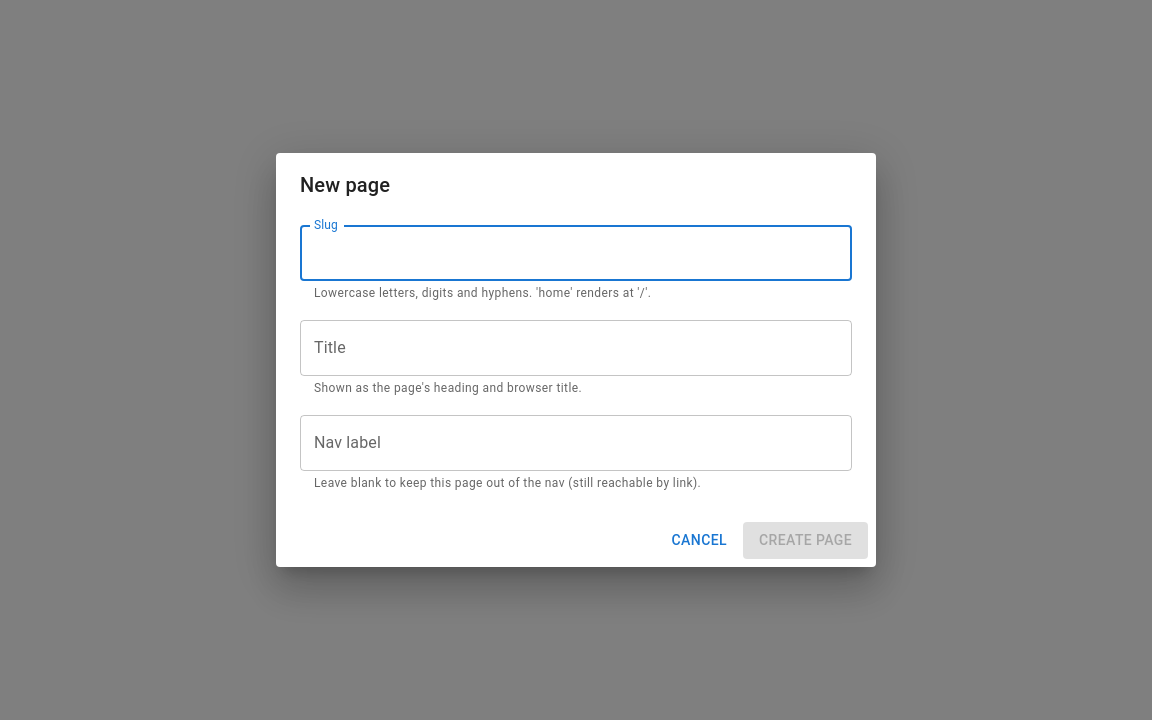
Test: PageFormDialog — create flow with the "blog" slug (AC #400) › still blocks the "api" and "admin" slugs client-side
In the field labelled "Slug": (576, 253) [300, 225, 852, 281], type "api"
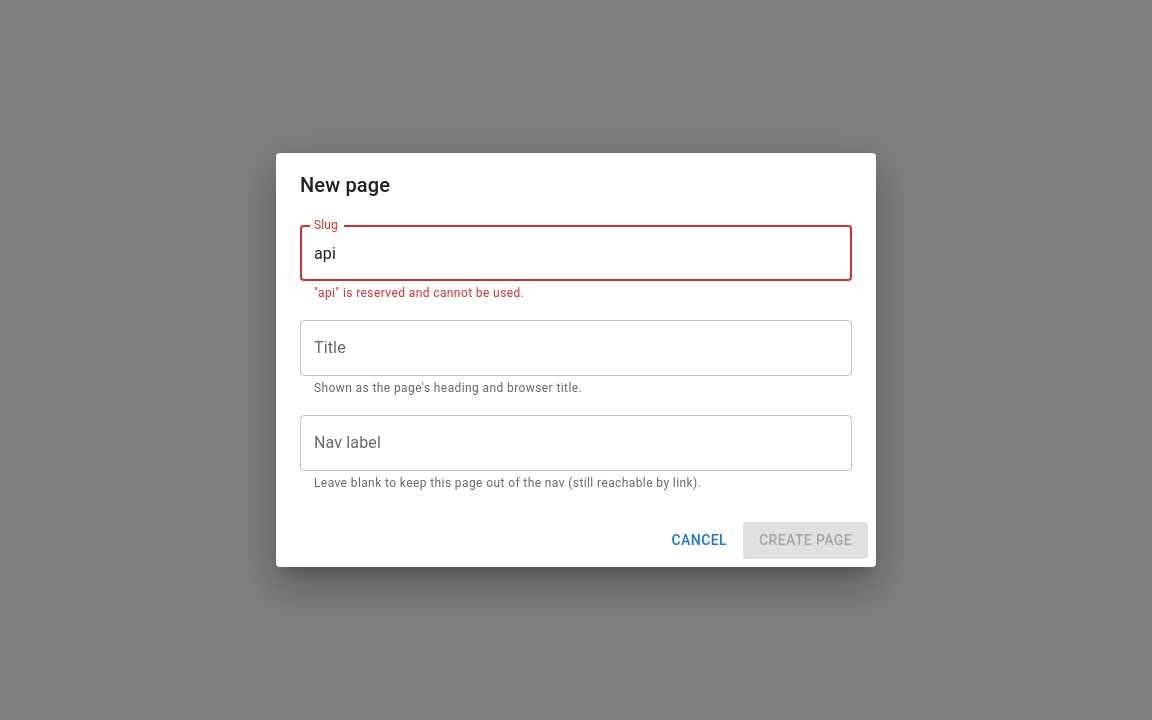
In the field labelled "Title": (576, 348) [300, 320, 852, 376], type "Anything"
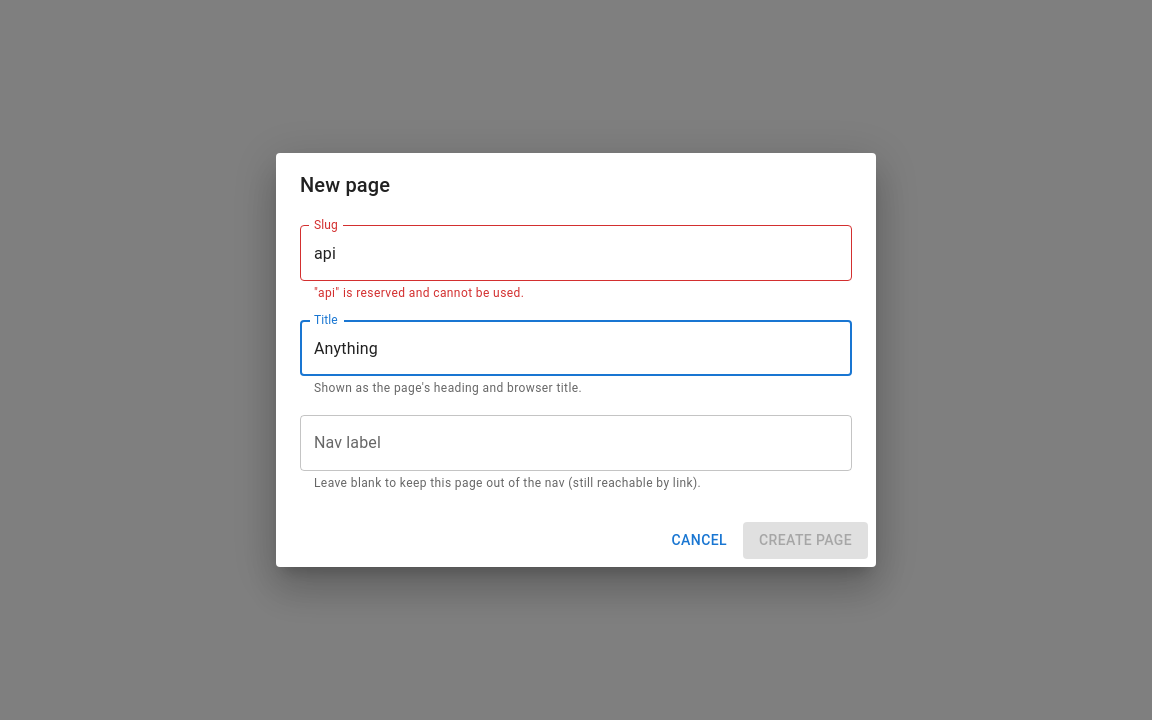
Check: the button "Create page" is disabled, box [743, 522, 868, 559]
Check: the text "\"api\" is reserved and cannot be used." is shown, box [314, 286, 524, 300]
Replace the text in the field labelled "Slug" with "admin": (576, 253) [300, 225, 852, 281]
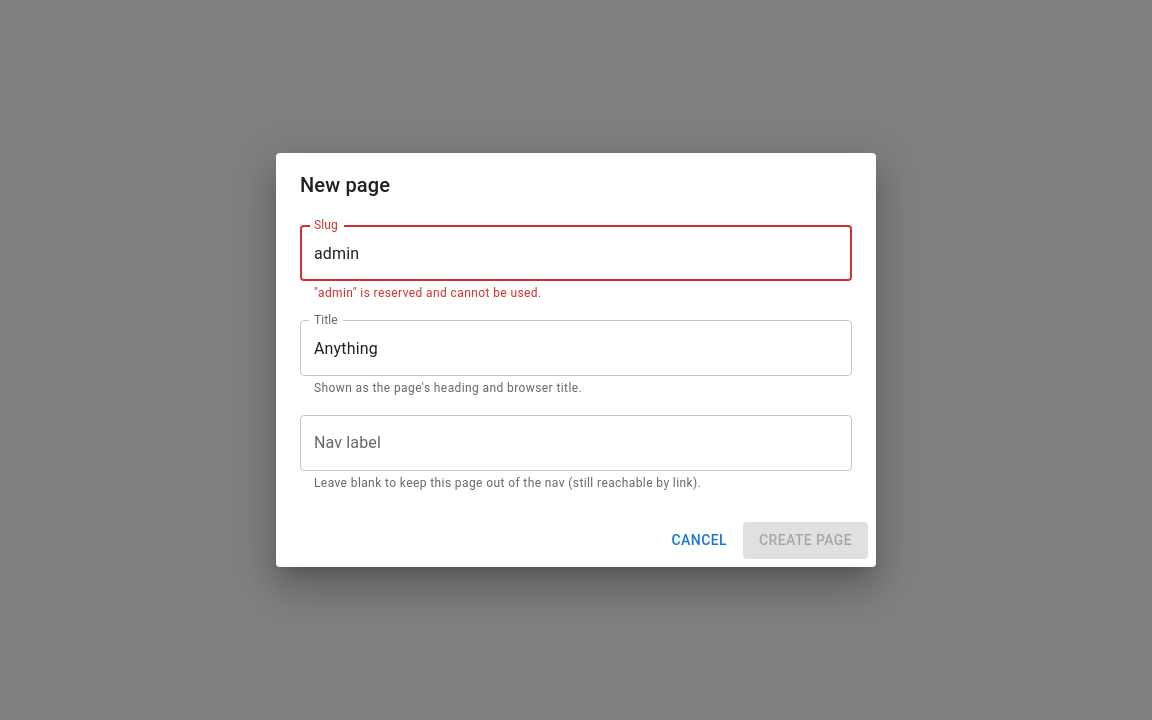
Check: the button "Create page" is disabled, box [743, 522, 868, 559]
Check: the text "\"admin\" is reserved and cannot be used." is shown, box [314, 286, 542, 300]
